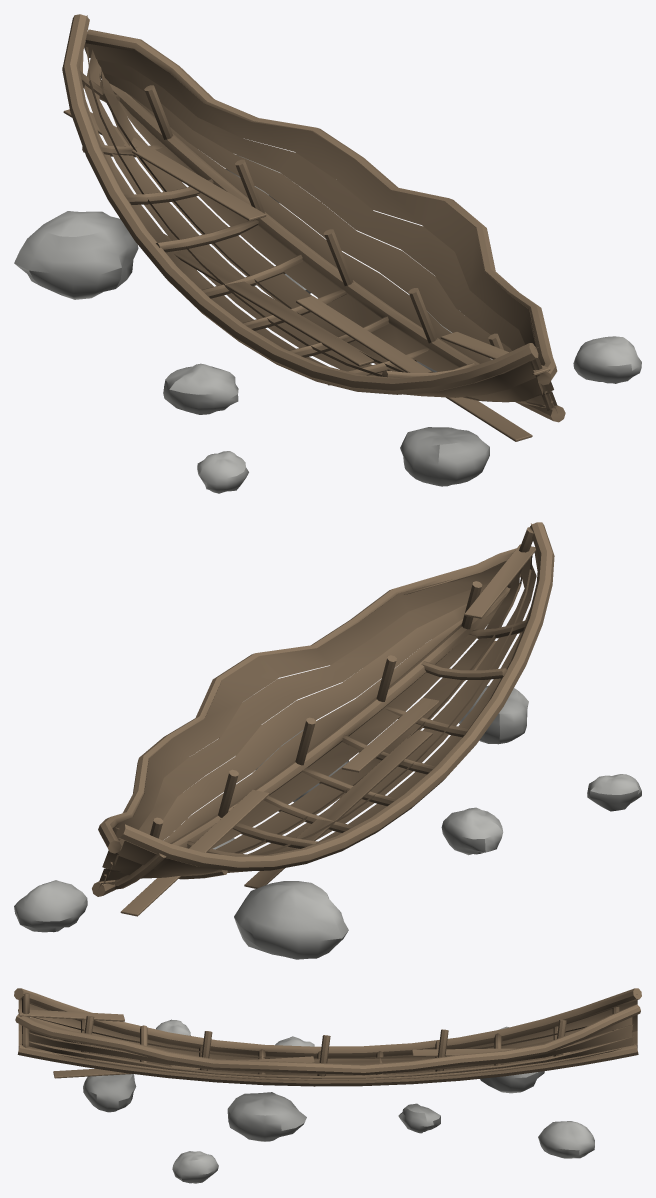
The model's file is wreck_hull.glb.
3 views of the same model, one above another, from view 1: azimuth 30°, elevation 25°; view 2: azimuth 150°, elevation 25°; view 3: azimuth 270°, elevation 25° (orthographic). The views are drawn at different scales.
Parts seen in each view (by area): view 1: wreck_hull; view 2: wreck_hull; view 3: wreck_hull.
Boxes of the visible parts, <box> form: wreck_hull: <box>14,14,641,493</box>; wreck_hull: <box>14,522,641,959</box>; wreck_hull: <box>14,988,641,1183</box>.
Size of the model in its own units: 5.07 by 1.95 by 8.93.
